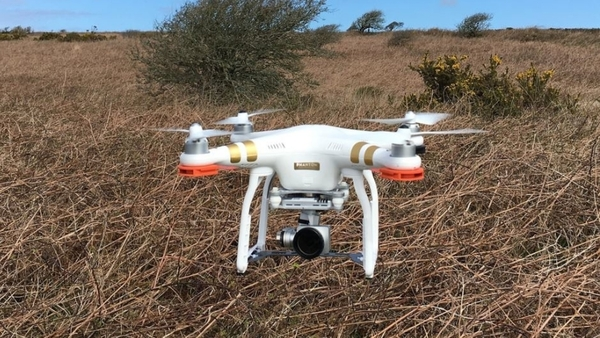drone: (143, 107, 488, 279)
